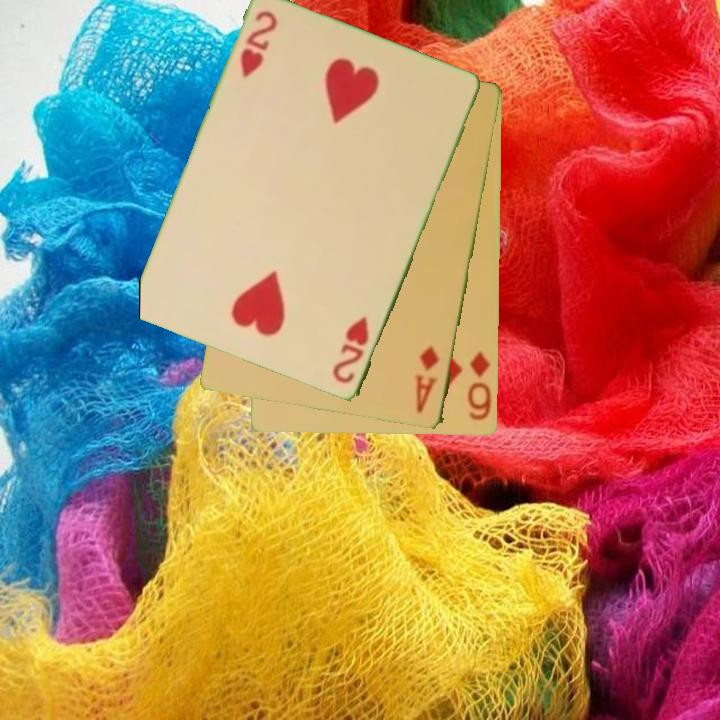2h: (237, 7, 281, 82), (329, 312, 372, 388)
6d: (464, 348, 494, 424)
Ad: (412, 343, 442, 416)
